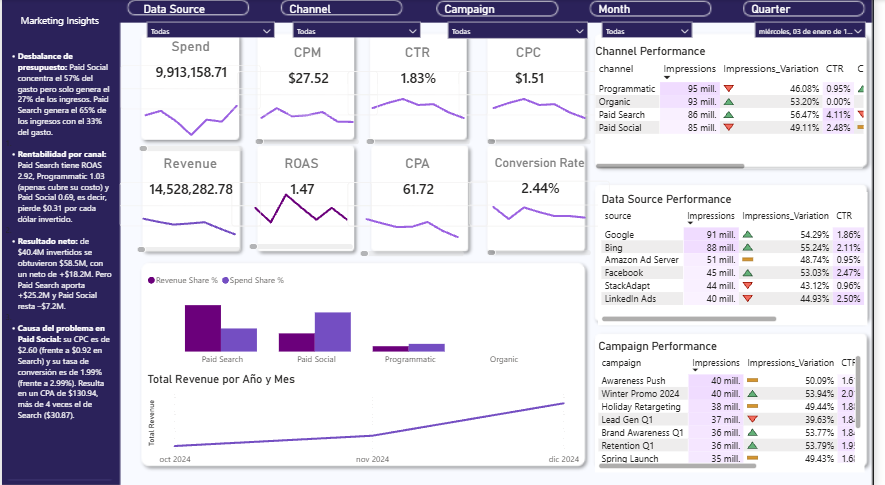

The page's visual inventory and layout, read from the dashboard file:
{"tool":"powerbi","page":{"name":"Marketing_Dashboard","canvas":[1280,720],"ordinal":0},"visuals":[{"type":"lineChart","fields":{"Category":["Calendar.MonthName","marketing_data.date.Variación.Jerarquía de fechas.Año"],"Y":["Sum(marketing_data.spend)"]},"box":[196.7,127.8,162.2,101.1],"z":0},{"type":"cardVisual","title":"Spend","fields":{"Data":["marketing_data.Total_Spend"]},"box":[157.8,56.7,240,122.2],"z":1000},{"type":"lineChart","fields":{"Category":["Calendar.Month","marketing_data.date.Variación.Jerarquía de fechas.Año"],"Y":["marketing_data.CPM"]},"box":[367.8,117.8,162.2,101.1],"z":2000},{"type":"cardVisual","title":"CTR","fields":{"Data":["marketing_data.CTR"]},"box":[491.1,66.7,240,122.2],"z":3000},{"type":"cardVisual","title":"ROAS","fields":{"Data":["marketing_data.ROAS medida"]},"box":[320,228.9,240,122.2],"z":4000},{"type":"lineChart","fields":{"Category":["Calendar.Month","marketing_data.date.Variación.Jerarquía de fechas.Año"],"Y":["marketing_data.CTR"]},"box":[530,117.8,162.2,101.1],"z":5000},{"type":"lineChart","fields":{"Category":["Calendar.Month","marketing_data.date.Variación.Jerarquía de fechas.Año"],"Y":["marketing_data.ROAS medida"]},"box":[358.9,271.1,162.2,101.1],"z":6000},{"type":"cardVisual","title":"CPM","fields":{"Data":["marketing_data.CPM"]},"box":[328.9,66.7,240,122.2],"z":7000},{"type":"cardVisual","title":"CPC","fields":{"Data":["marketing_data.Cost Per Click"]},"box":[653.3,66.7,240,122.2],"z":8000},{"type":"lineChart","fields":{"Category":["Calendar.Month","marketing_data.date.Variación.Jerarquía de fechas.Año"],"Y":["marketing_data.CTR"]},"box":[708.9,117.8,162.2,101.1],"z":9000},{"type":"cardVisual","title":"Revenue","fields":{"Data":["marketing_data.Total Revenue"]},"box":[155.6,228.9,242.2,122.2],"z":10000},{"type":"lineChart","fields":{"Category":["Calendar.Month","marketing_data.date.Variación.Jerarquía de fechas.Año"],"Y":["marketing_data.Total Revenue"]},"box":[194.7,275.8,162.2,101.1],"z":11000},{"type":"cardVisual","title":"CPA","fields":{"Data":["marketing_data.CPA medida"]},"box":[491.1,228.9,240,122.2],"z":12000},{"type":"lineChart","fields":{"Category":["Calendar.Month","marketing_data.date.Variación.Jerarquía de fechas.Año"],"Y":["marketing_data.Conversion Rate"]},"box":[708.9,281.1,162.2,101.1],"z":13000},{"type":"cardVisual","title":"Conversion Rate","fields":{"Data":["marketing_data.Conversion Rate"]},"box":[670,228.9,240,122.2],"z":14000},{"type":"lineChart","fields":{"Category":["marketing_data.date.Variación.Jerarquía de fechas.Año","Calendar.Month"],"Y":["Sum(marketing_data.conversions)"]},"box":[521.1,282.2,162.2,101.1],"z":15000},{"type":"pivotTable","title":"Channel Performance ","fields":{"Rows":["marketing_data.channel"],"Values":["Sum(marketing_data.impressions)","marketing_data.Variacion_impressions","marketing_data.CTR","marketing_data.CTR_Variacion_MoM","marketing_data.Spend Share %"]},"box":[866.7,66.7,404.4,188.9],"z":16000},{"type":"pivotTable","title":"Data Source Performance","fields":{"Rows":["marketing_data.source"],"Values":["Sum(marketing_data.impressions)","marketing_data.Variacion_impressions","marketing_data.CTR","marketing_data.CTR_Variacion_MoM"]},"box":[875.7,282.9,395.7,195.7],"z":17000},{"type":"pivotTable","title":"Campaign Performance ","fields":{"Rows":["marketing_data.campaign"],"Values":["Sum(marketing_data.impressions)","marketing_data.Variacion_impressions","marketing_data.CTR","marketing_data.CTR_Variacion_MoM"]},"box":[871.1,498.9,395.6,195.6],"z":18000},{"type":"clusteredColumnChart","fields":{"Category":["marketing_data.channel"],"Y":["marketing_data.Revenue Share %","marketing_data.Spend Share %"]},"box":[209.3,394.1,644.6,154.3],"z":19000},{"type":"slicer","title":"Data Source","fields":{"Values":["marketing_data.source"]},"box":[202.2,4.4,207.8,52.2],"z":20000},{"type":"slicer","title":"Channel","fields":{"Values":["marketing_data.channel"]},"box":[417.8,4.4,207.8,52.2],"z":21000},{"type":"slicer","title":"Campaign","fields":{"Values":["marketing_data.campaign"]},"box":[645.6,4.4,225.6,76.7],"z":22000},{"type":"slicer","title":"Month","fields":{"Values":["Calendar.MonthName"]},"box":[871.1,4.4,153.3,52.2],"z":23000},{"type":"slicer","title":"Quarter","fields":{"Values":["marketing_data.Trimestre"]},"box":[1096.7,4.4,183.3,52.2],"z":24000},{"type":"textbox","box":[0,0,169.5,705.7],"z":25000},{"type":"lineChart","fields":{"Category":["Calendar.Date.Variación.Jerarquía de fechas.Año","Calendar.Date.Variación.Jerarquía de fechas.Mes"],"Y":["marketing_data.Total Revenue"]},"box":[209.3,548.4,644.6,146.6],"z":26000}]}

Visuals, with their boxes in screenshot pixels (x1, y1, x2, y2), scaled from the page's 1280x720 canvas onto the 885x485 screenshot:
lineChart - Calendar.MonthName x marketing_data.date.Variación.Jerarquía de fechas.Año: [136, 86, 248, 154]
"Spend" cardVisual: [109, 38, 275, 121]
lineChart - Calendar.Month x marketing_data.date.Variación.Jerarquía de fechas.Año: [254, 79, 366, 147]
"CTR" cardVisual: [340, 45, 505, 127]
"ROAS" cardVisual: [221, 154, 387, 237]
lineChart - Calendar.Month x marketing_data.date.Variación.Jerarquía de fechas.Año: [366, 79, 479, 147]
lineChart - Calendar.Month x marketing_data.date.Variación.Jerarquía de fechas.Año: [248, 183, 360, 251]
"CPM" cardVisual: [227, 45, 393, 127]
"CPC" cardVisual: [452, 45, 618, 127]
lineChart - Calendar.Month x marketing_data.date.Variación.Jerarquía de fechas.Año: [490, 79, 602, 147]
"Revenue" cardVisual: [108, 154, 275, 237]
lineChart - Calendar.Month x marketing_data.date.Variación.Jerarquía de fechas.Año: [135, 186, 247, 254]
"CPA" cardVisual: [340, 154, 505, 237]
lineChart - Calendar.Month x marketing_data.date.Variación.Jerarquía de fechas.Año: [490, 189, 602, 257]
"Conversion Rate" cardVisual: [463, 154, 629, 237]
lineChart - marketing_data.date.Variación.Jerarquía de fechas.Año x Calendar.Month: [360, 190, 472, 258]
"Channel Performance " pivotTable: [599, 45, 879, 172]
"Data Source Performance" pivotTable: [605, 191, 879, 322]
"Campaign Performance " pivotTable: [602, 336, 876, 468]
clusteredColumnChart - marketing_data.channel x marketing_data.Revenue Share %: [145, 265, 590, 369]
"Data Source" slicer: [140, 3, 283, 38]
"Channel" slicer: [289, 3, 433, 38]
"Campaign" slicer: [446, 3, 602, 55]
"Month" slicer: [602, 3, 708, 38]
"Quarter" slicer: [758, 3, 884, 38]
textbox: [0, 0, 117, 475]
lineChart - Calendar.Date.Variación.Jerarquía de fechas.Año x Calendar.Date.Variación.Jerarquía de fechas.Mes: [145, 369, 590, 468]
